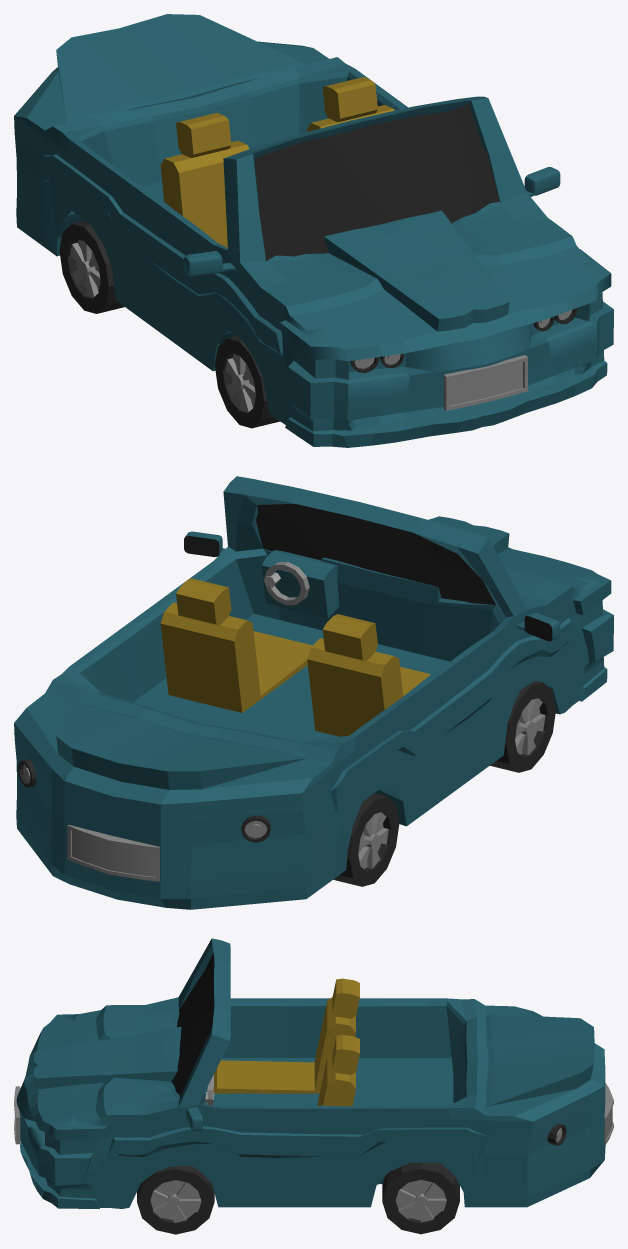
The model's file is car_2.fbx.
3 renders of one model, top to bottom at view 1: azimuth 30°, elevation 25°; view 2: azimuth 150°, elevation 25°; view 3: azimuth 270°, elevation 25°, orthographic. The views are drawn at different scales.
Parts seen in each view (by area): view 1: car_base, pPlane4, pPipe5 (×2), chair, chair1, front_plate, pCylinder12 (×2), mirror; view 2: car_base, chair, pPlane4, pPipe5 (×2), chair1, back_plate, chair2, chair3, pCylinder12 (×2), mirror, lamp_big1, pPipe6; view 3: car_base, pPipe5 (×2), chair3, pCylinder12 (×2), pPlane4, chair, chair1, back_plate.
Part boxes in pixels (x1,y1,x2,y2): car_base: (14, 14, 613, 447); pPlane4: (254, 104, 499, 260); pPipe5 (×2): (59, 220, 279, 428); chair: (160, 105, 394, 247); chair1: (176, 77, 377, 157); front_plate: (443, 355, 527, 410); pCylinder12 (×2): (70, 240, 255, 412); mirror: (184, 167, 560, 276); car_base: (14, 476, 613, 909); chair: (160, 602, 403, 736); pPlane4: (256, 504, 495, 605); pPipe5 (×2): (333, 681, 555, 886); chair1: (176, 578, 377, 661); back_plate: (67, 824, 159, 881); chair2: (261, 550, 339, 617); chair3: (253, 631, 430, 699); pCylinder12 (×2): (358, 698, 545, 869); mirror: (184, 531, 560, 641); lamp_big1: (17, 759, 270, 842); pPipe6: (264, 562, 309, 605); car_base: (16, 938, 605, 1208); pPipe5 (×2): (137, 1162, 459, 1234); chair3: (213, 1060, 314, 1093); pCylinder12 (×2): (150, 1180, 446, 1222); pPlane4: (171, 952, 214, 1097); chair: (314, 997, 355, 1106); chair1: (332, 978, 359, 1075); back_plate: (604, 1083, 613, 1144).
Bounding box in the file's own units: 161 × 103 × 287.
